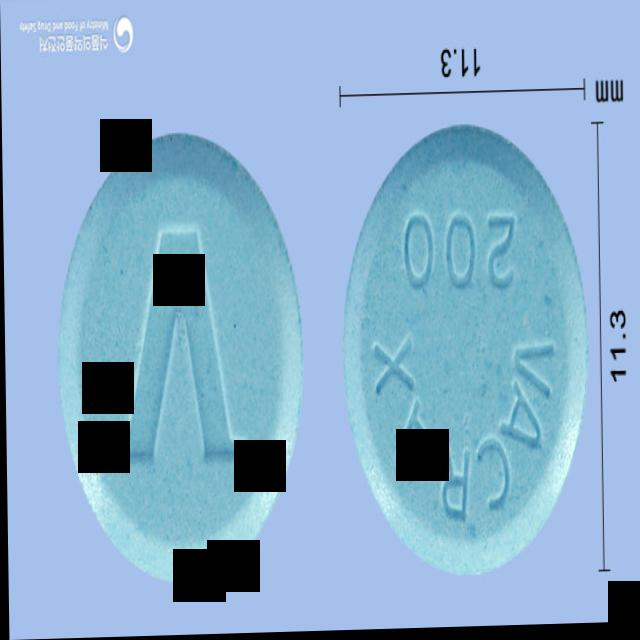Vacrax Tab: (52, 133, 306, 590), (337, 127, 590, 583)
